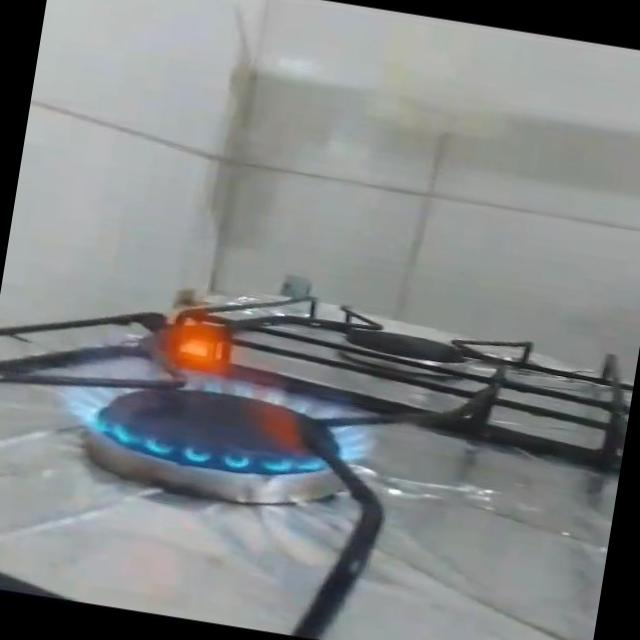Fire: (38, 282, 399, 498)
